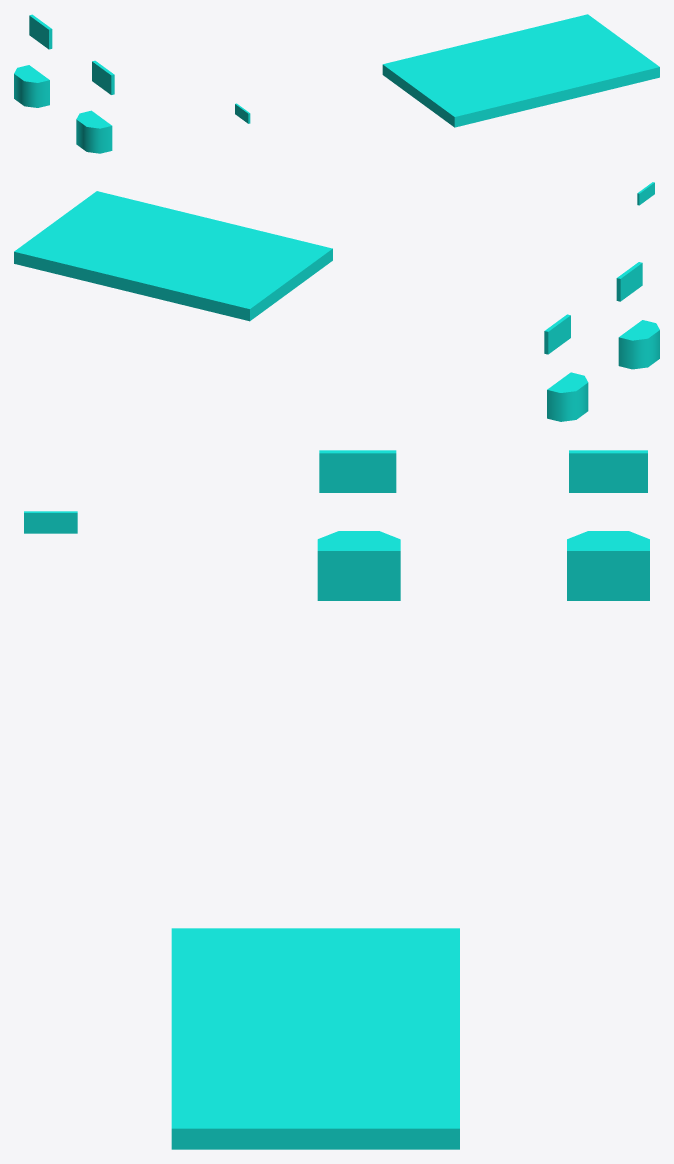
3 renders of one model, top to bottom at view 1: azimuth 30°, elevation 25°; view 2: azimuth 150°, elevation 25°; view 3: azimuth 270°, elevation 25°, orthographic. The views are drawn at different scales.
Parts seen in each view (by area): view 1: Cube, Ventanas_Mesh.002, Ventanas_Mesh.004, Box001, Box001.001; view 2: Cube, Ventanas_Mesh.002, Ventanas_Mesh.004, Box001, Box001.001; view 3: Cube, Ventanas_Mesh.002, Ventanas_Mesh.004, Box001, Box001.001, Box001.002.
Part boxes in pixels (x1,y1,x2,y2): Cube: [382, 14, 659, 127]; Ventanas_Mesh.002: [76, 110, 112, 153]; Ventanas_Mesh.004: [14, 65, 49, 107]; Box001: [29, 14, 52, 49]; Box001.001: [92, 60, 114, 94]; Cube: [14, 191, 332, 321]; Ventanas_Mesh.002: [618, 320, 659, 369]; Ventanas_Mesh.004: [547, 372, 588, 421]; Box001: [544, 314, 570, 354]; Box001.001: [616, 262, 642, 301]; Cube: [171, 928, 459, 1149]; Ventanas_Mesh.002: [317, 531, 400, 600]; Ventanas_Mesh.004: [567, 531, 649, 600]; Box001: [569, 450, 647, 492]; Box001.001: [319, 450, 396, 492]; Box001.002: [24, 511, 77, 533].
Bounding box in the file's own units: 88.58 × 15.97 × 45.17.
Materials: 1 (1 with a texture image).
